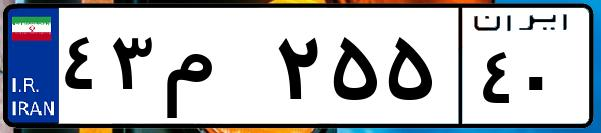0: (525, 38, 570, 115)
2: (270, 28, 330, 110)
3: (110, 28, 158, 98)
4: (57, 26, 110, 100), (475, 38, 525, 113)
5: (385, 28, 445, 110), (330, 28, 385, 110)
م: (158, 20, 270, 120)
